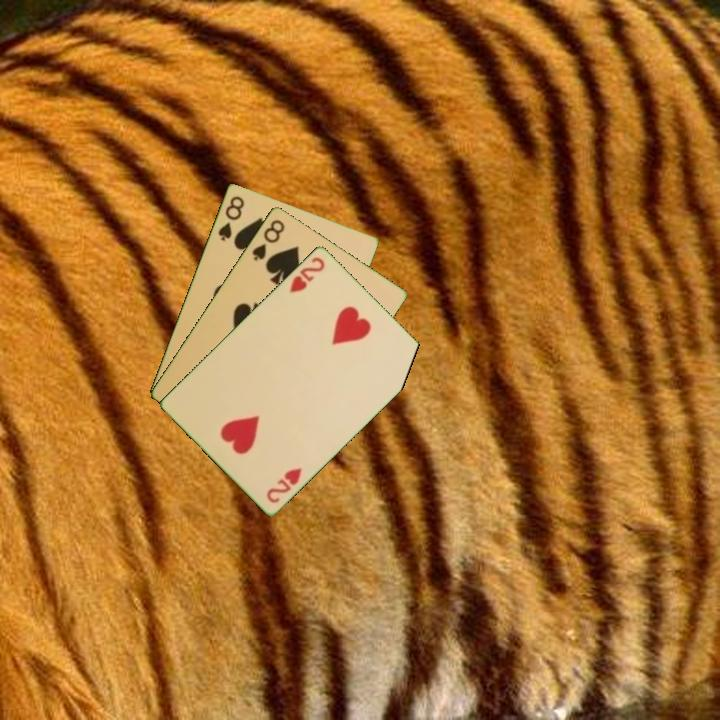2h: (286, 253, 328, 296), (263, 464, 305, 506)
8s: (248, 216, 288, 263), (214, 192, 247, 244)
